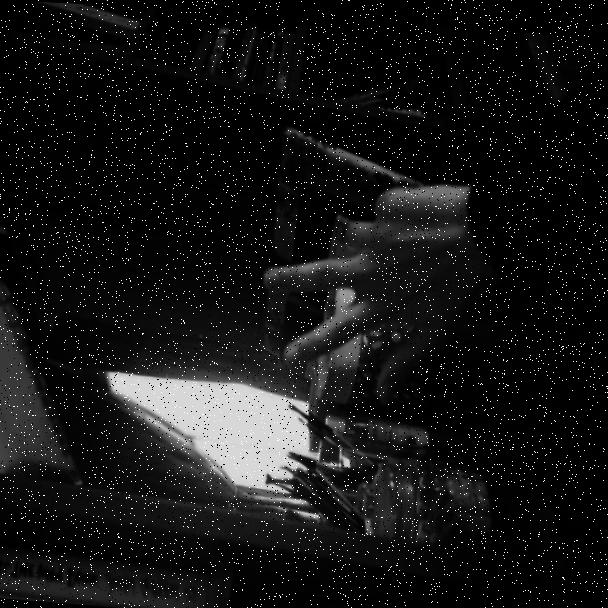three: (239, 129, 517, 427)
